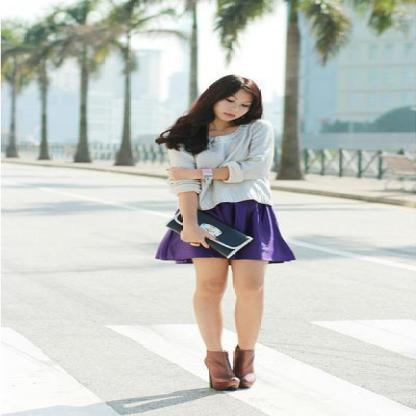bag: (167, 208, 253, 257)
shirt: (163, 125, 282, 209)
shoe: (204, 346, 253, 390)
skirt: (155, 200, 294, 264)
